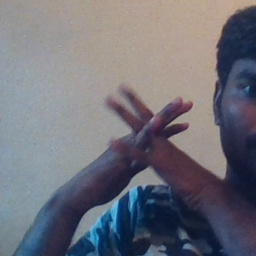W: (97, 70, 200, 191)
